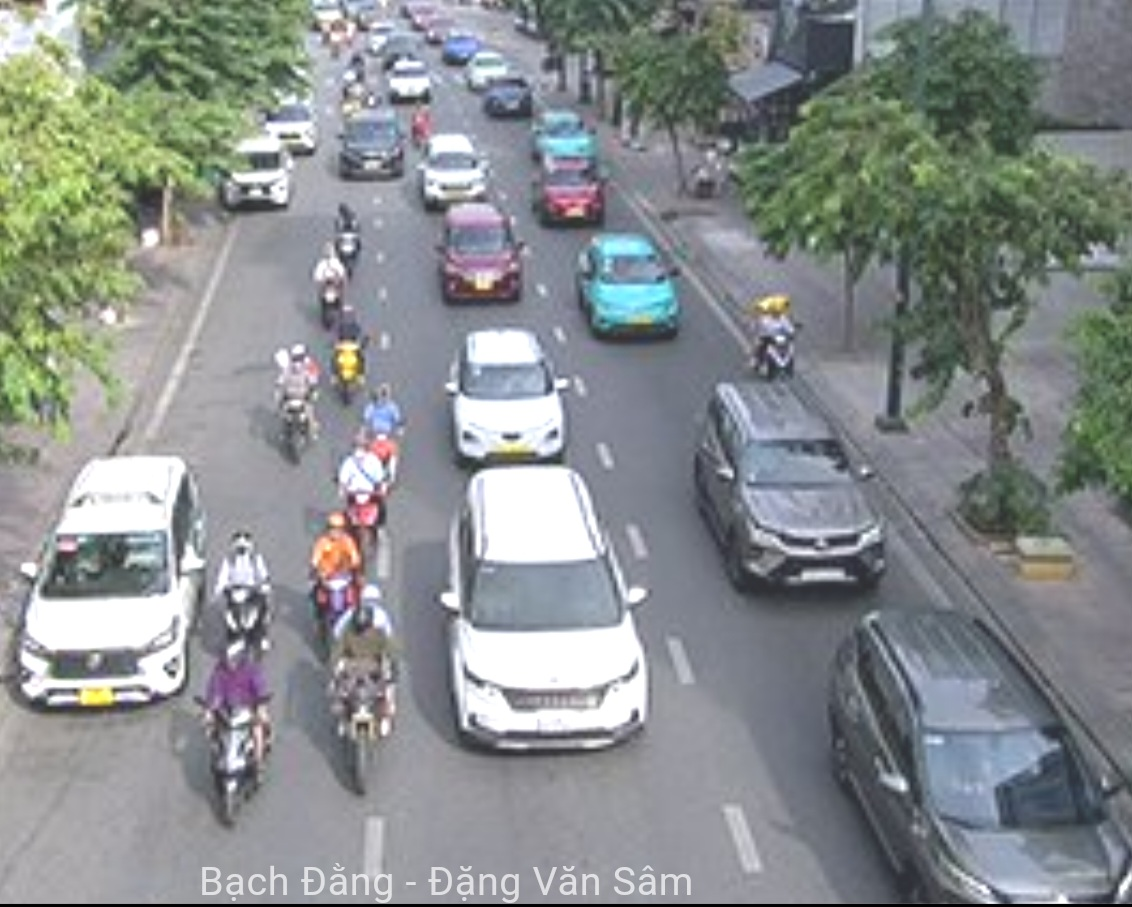car: (838, 605, 1128, 907), (452, 473, 661, 760), (16, 447, 223, 718), (695, 378, 888, 597), (448, 331, 568, 464), (575, 232, 687, 345), (441, 204, 530, 302), (216, 133, 301, 213), (530, 156, 608, 234), (338, 108, 410, 185), (421, 138, 486, 206)
